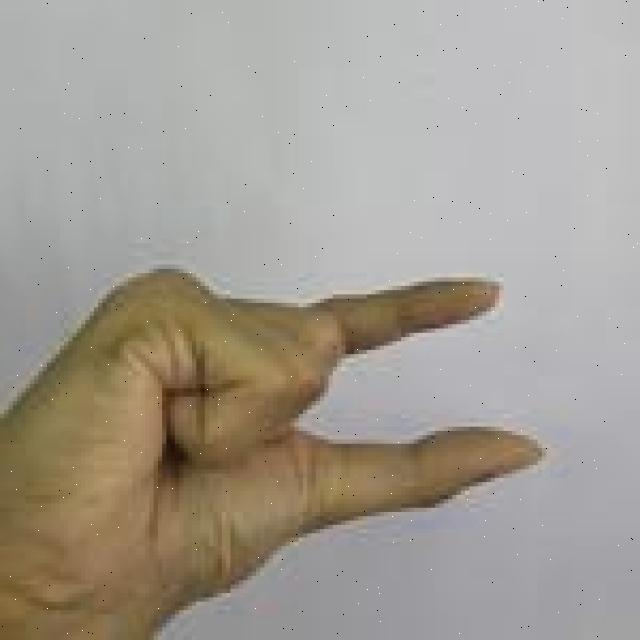G: (0, 264, 550, 640)
